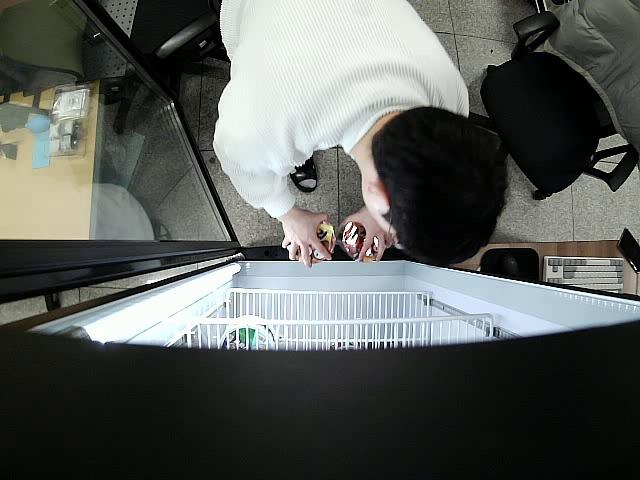00_hand: (279, 207, 333, 267), (343, 205, 389, 264)
05_nuguri_L: (294, 219, 339, 266), (343, 219, 386, 261)
